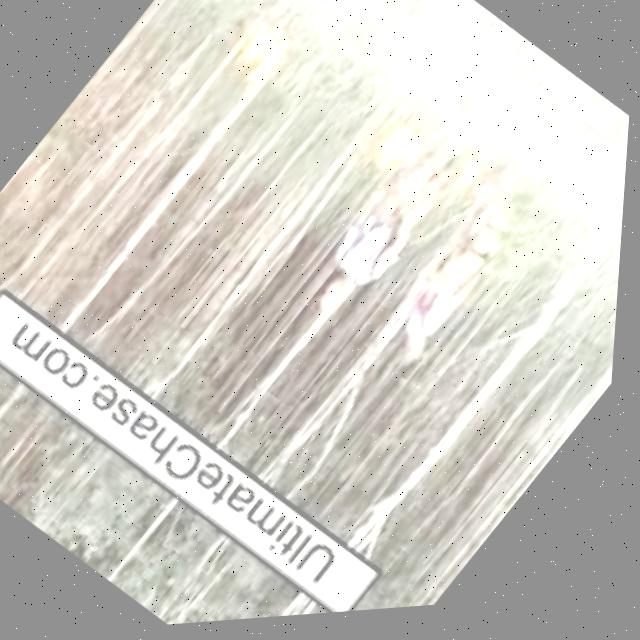Fire: (365, 119, 431, 187)
Smoke: (226, 12, 302, 92)
